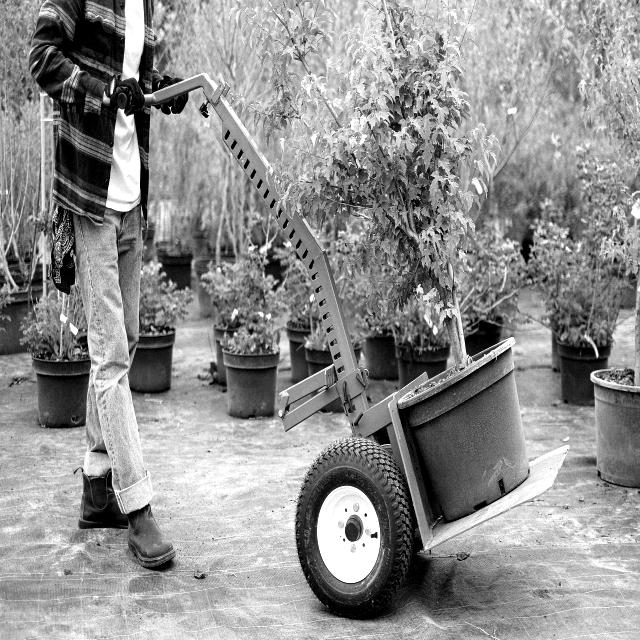No-Boots: (70, 460, 127, 531), (122, 504, 176, 575)
